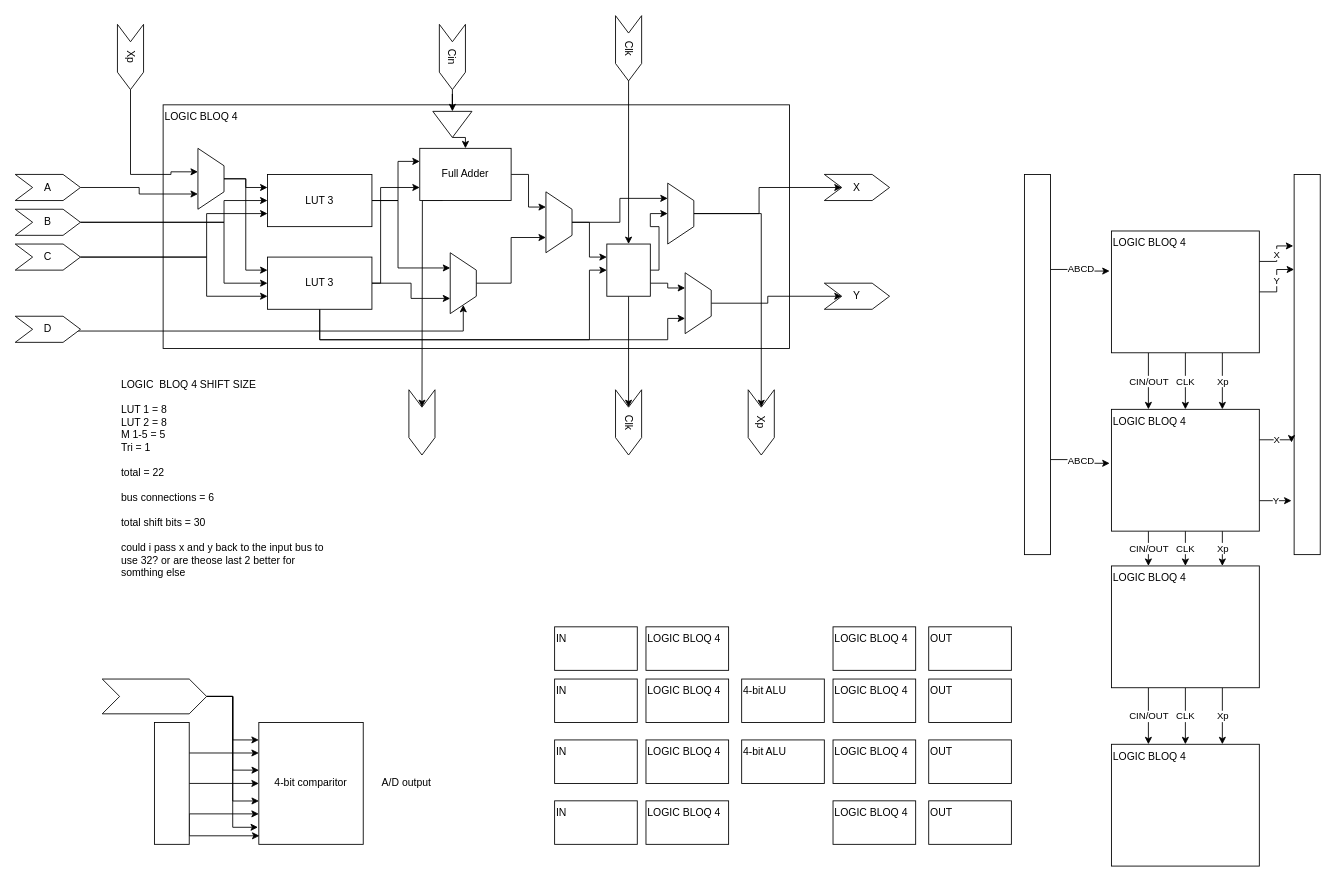
This 1335x881 diagram has some shape labels left out. Each missing label, with the box of its shape:
0-5v in: (101, 678, 207, 714)
Cout: (408, 389, 435, 455)
FF: (606, 243, 650, 296)
M1: (197, 147, 224, 209)
M2: (449, 252, 476, 314)
M3: (545, 191, 572, 253)
M4: (667, 182, 694, 244)
M5: (684, 272, 711, 334)
Res ladder: (154, 722, 189, 844)
Tri: (432, 110, 472, 137)
